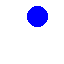circle: (27, 6, 47, 26)
